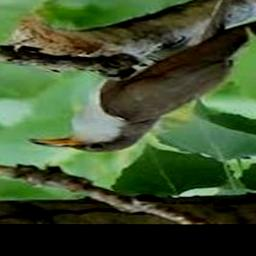Cuckoo: (27, 0, 256, 153)
